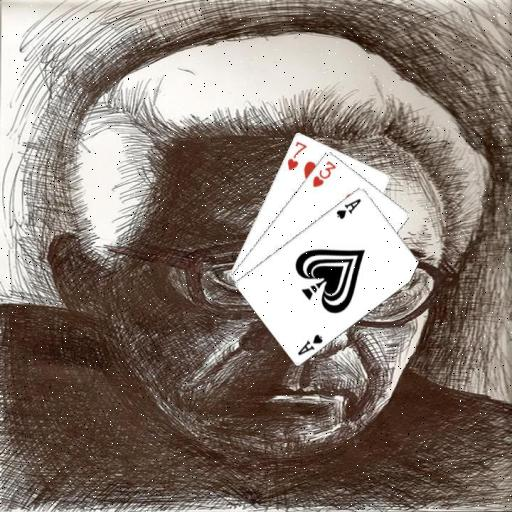3H: (310, 157, 338, 189)
7H: (284, 138, 308, 172)
AS: (333, 195, 363, 221), (295, 331, 325, 357)
